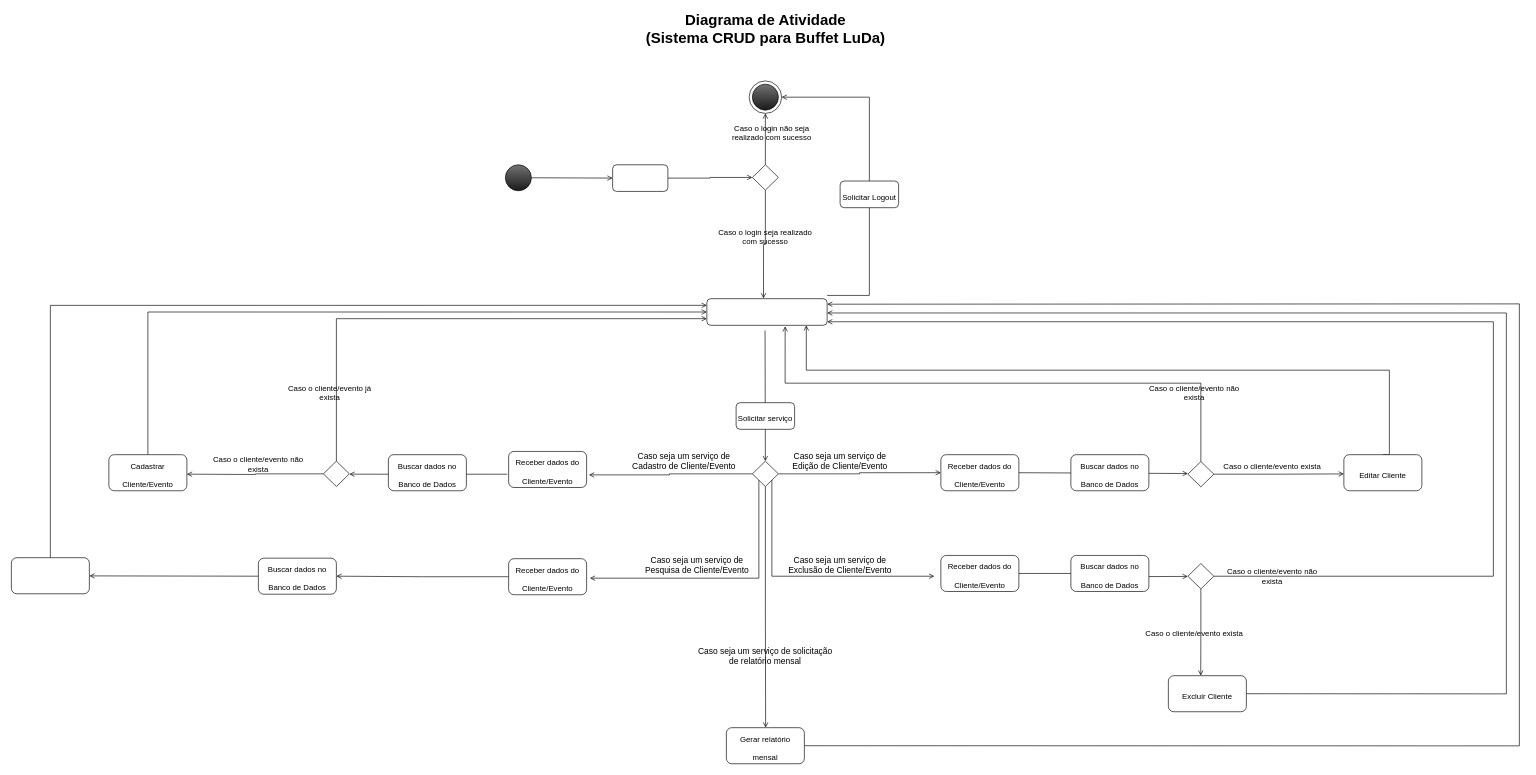
The diagram is 1536 pixels wide and 775 high, and some of its shapes have lost their labels. Each missing label, with the centre of its shape:
Exibir interface do software: point 766,311
Exibir resultado da pesquisa: point 50,575
Solicitar Login: point 640,177
